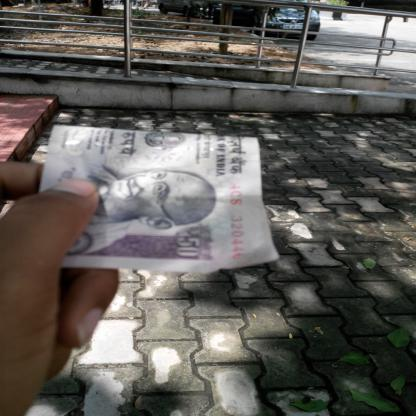Old50Front: (40, 124, 280, 274)
